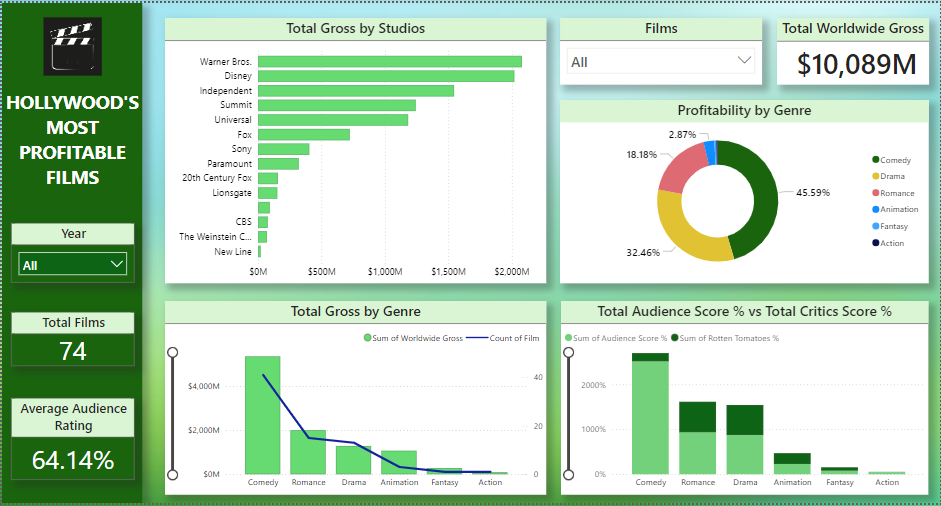

What the dashboard file says about the page in this screenshot:
{"tool":"powerbi","page":{"name":"Hollywood's Profitable Films","canvas":[1350,720],"ordinal":0},"visuals":[{"type":"textbox","box":[0,0,202.4,720.6],"z":0},{"type":"lineStackedColumnComboChart","title":"Total  Gross by Genre","fields":{"Category":["HollywoodsMostProfitableStories (1).Genre"],"Y":["Sum(HollywoodsMostProfitableStories (1).Worldwide Gross)"],"Y2":["CountNonNull(HollywoodsMostProfitableStories (1).Film)"]},"box":[234.8,429.1,548.9,278.5],"z":1000},{"type":"slicer","title":"Films","fields":{"Values":["HollywoodsMostProfitableStories (1).Film"]},"box":[803.1,21,291.5,95.5],"z":2000},{"type":"card","title":"Total Worldwide Gross","fields":{"Values":["Sum(HollywoodsMostProfitableStories (1).Worldwide Gross)"]},"box":[1115.6,21,218.6,95.5],"z":3000},{"type":"barChart","title":"Total  Gross by Studios","fields":{"Y":["Sum(HollywoodsMostProfitableStories (1).Worldwide Gross)"],"Category":["HollywoodsMostProfitableStories (1).Lead Studio"]},"box":[234.8,21,548.9,382.1],"z":4000},{"type":"donutChart","title":"Profitability by Genre","fields":{"Category":["HollywoodsMostProfitableStories (1).Genre"],"Y":["Sum(HollywoodsMostProfitableStories (1).Profitability %)"]},"box":[803.1,139.3,531.1,263.9],"z":5000},{"type":"slicer","title":"Year","fields":{"Values":["HollywoodsMostProfitableStories (1).Year"]},"box":[13,317.4,178.1,85.8],"z":6000},{"type":"card","title":"Total Films","fields":{"Values":["CountNonNull(HollywoodsMostProfitableStories (1).Film)"]},"box":[13,445.3,178.1,77.7],"z":7000},{"type":"card","title":"Average Audience Rating","fields":{"Values":["HollywoodsMostProfitableStories (1).Average Audience score %"]},"box":[13,568.3,178.1,118.2],"z":8000},{"type":"lineStackedColumnComboChart","title":"Total Audience Score % vs Total Critics Score %","fields":{"Category":["HollywoodsMostProfitableStories (1).Genre"],"Y":["Sum(HollywoodsMostProfitableStories (1).Audience Score %)","Sum(HollywoodsMostProfitableStories (1).Rotten Tomatoes %)"]},"box":[804.8,429.1,529.5,278.5],"z":9000},{"type":"image","box":[55.1,8.1,93.9,108.5],"z":10000}]}

Visuals, with their boxes in screenshot pixels (x1, y1, x2, y2), scaled from the page's 1350x720 canvas onto the 941x506 screenshot:
textbox: 0,0,141,505
"Total  Gross by Genre" lineStackedColumnComboChart: 164,302,546,497
"Films" slicer: 560,15,763,82
"Total Worldwide Gross" card: 778,15,930,82
"Total  Gross by Studios" barChart: 164,15,546,283
"Profitability by Genre" donutChart: 560,98,930,283
"Year" slicer: 9,223,133,283
"Total Films" card: 9,313,133,368
"Average Audience Rating" card: 9,399,133,482
"Total Audience Score % vs Total Critics Score %" lineStackedColumnComboChart: 561,302,930,497
image: 38,6,104,82
